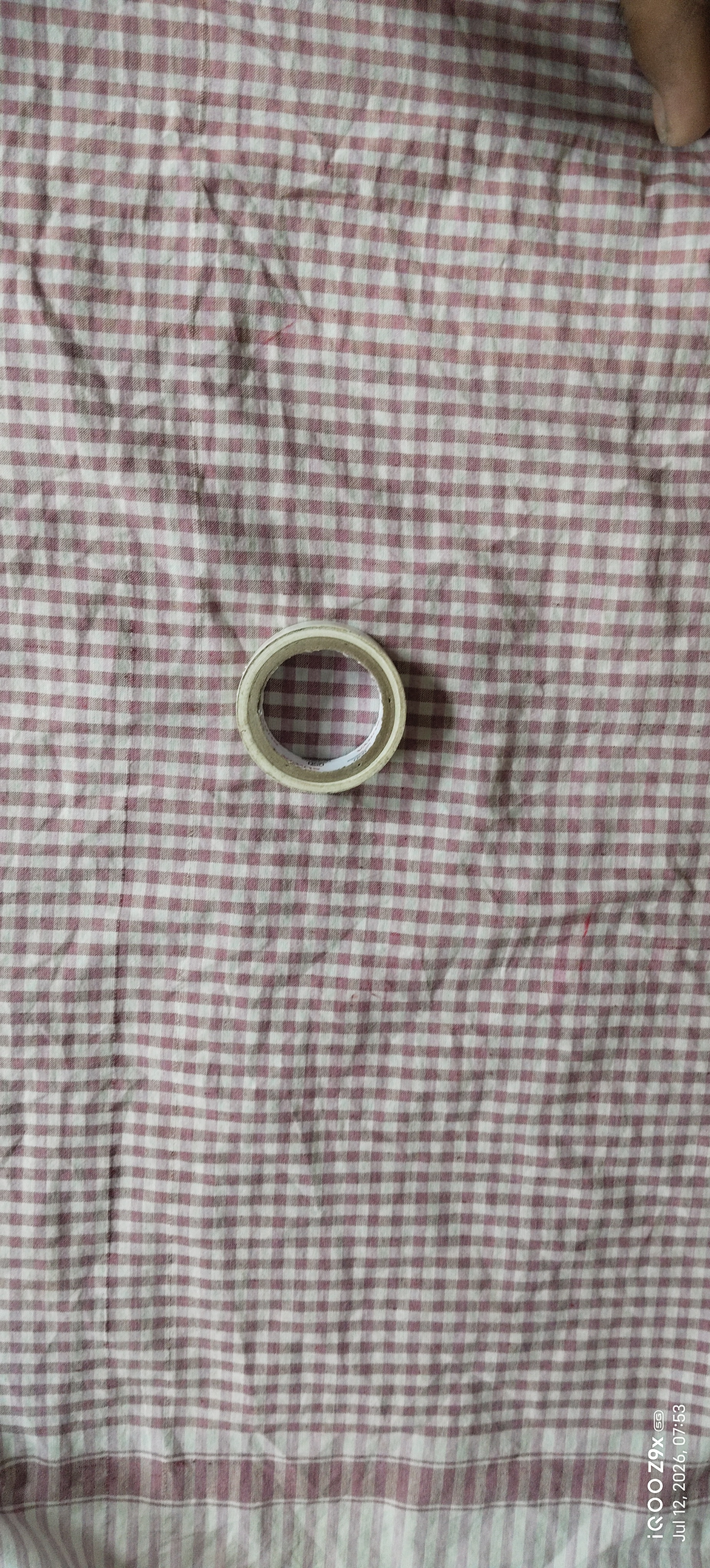tape_roll: (206, 606, 443, 826)
